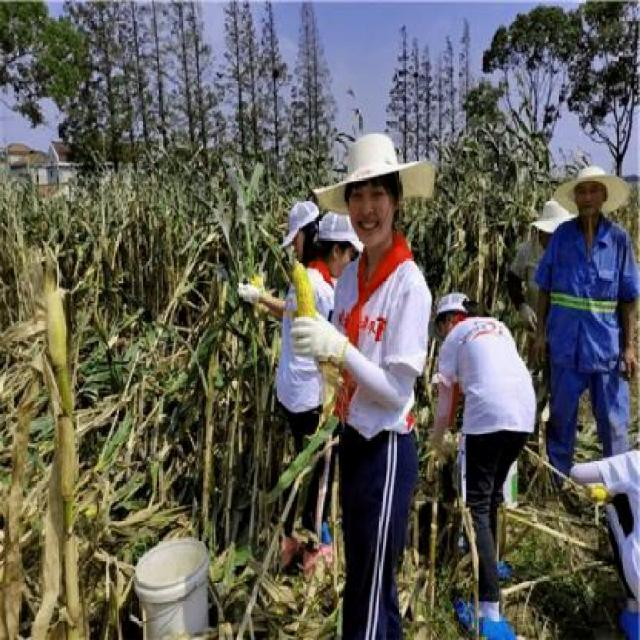face_nomask: (352, 182, 396, 248), (578, 183, 602, 214)
hand_glove: (289, 309, 340, 363), (235, 280, 260, 305)
hand_noglove: (623, 348, 639, 380), (535, 332, 548, 365)
head_nohelmet: (324, 132, 416, 191), (570, 161, 615, 194)
person: (309, 132, 437, 640), (535, 157, 637, 492), (436, 295, 533, 640)
